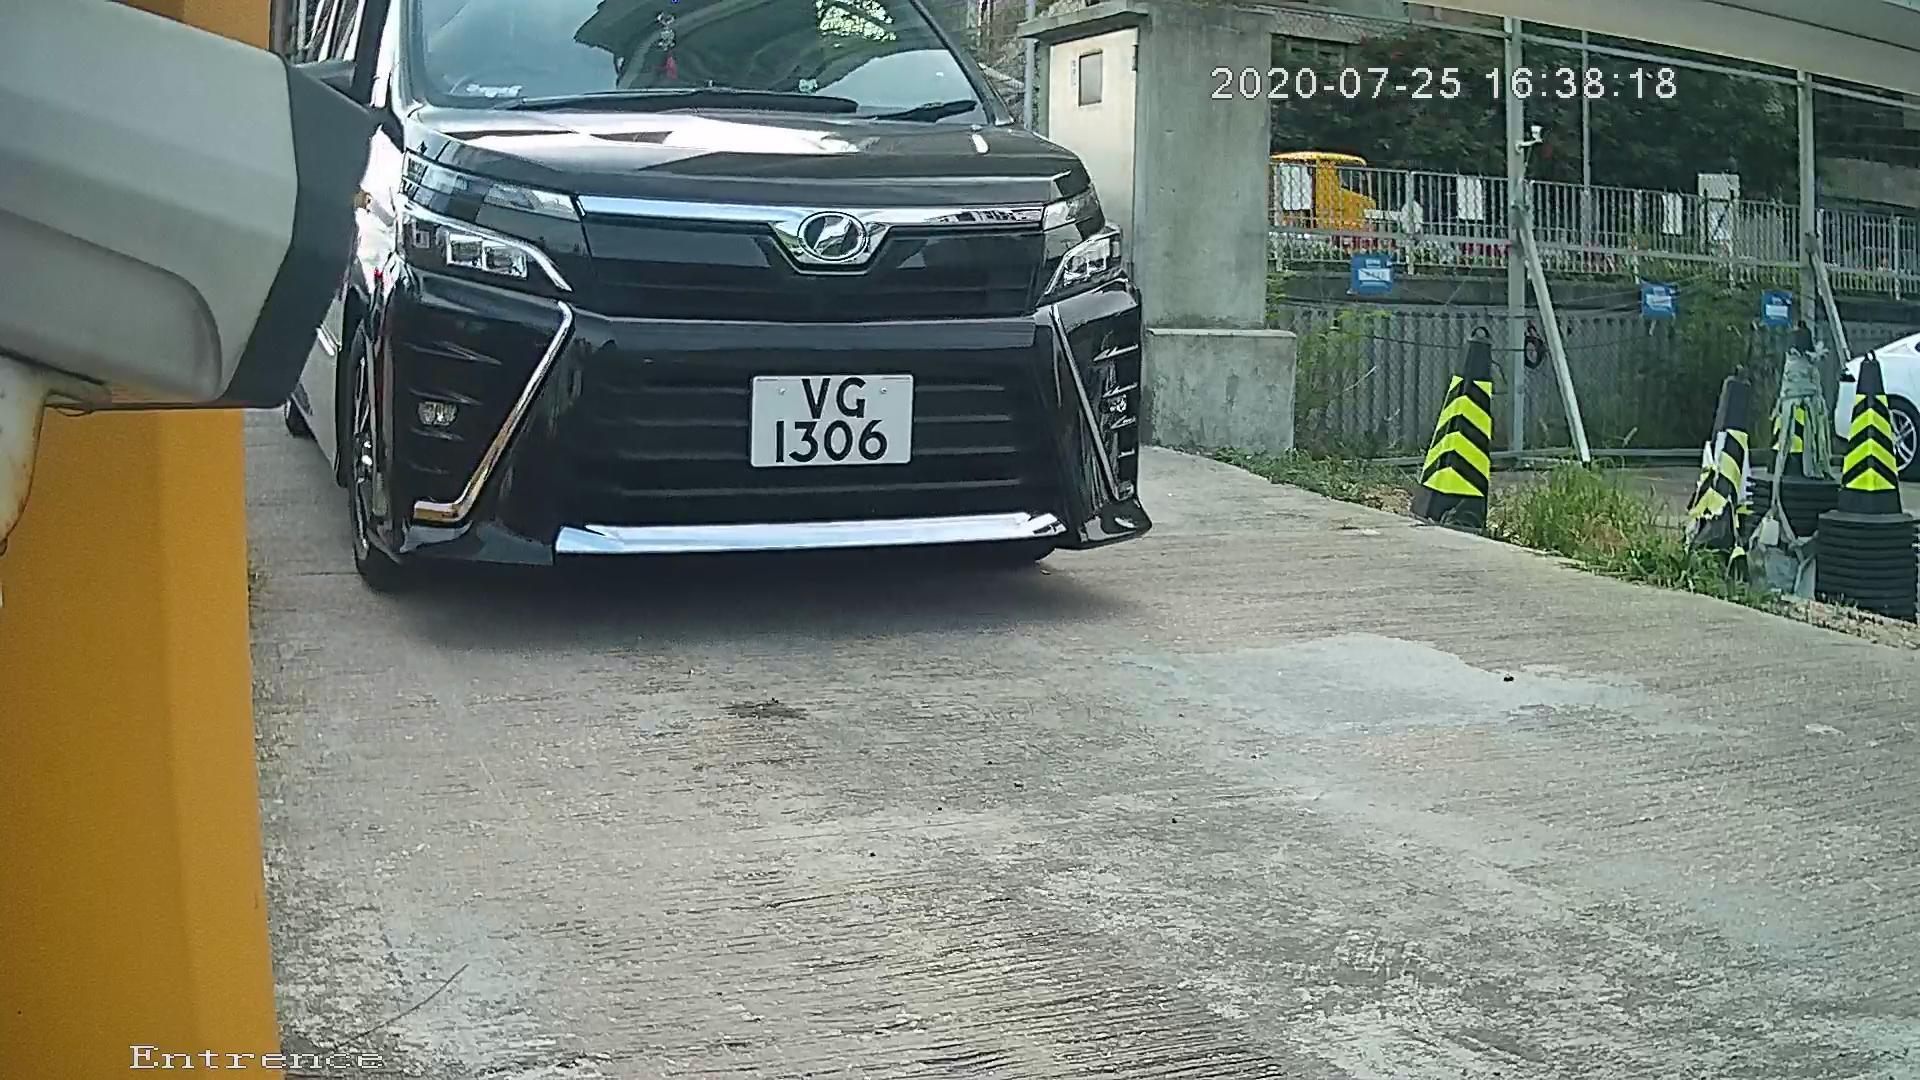privatecar: (215, 20, 1381, 613)
